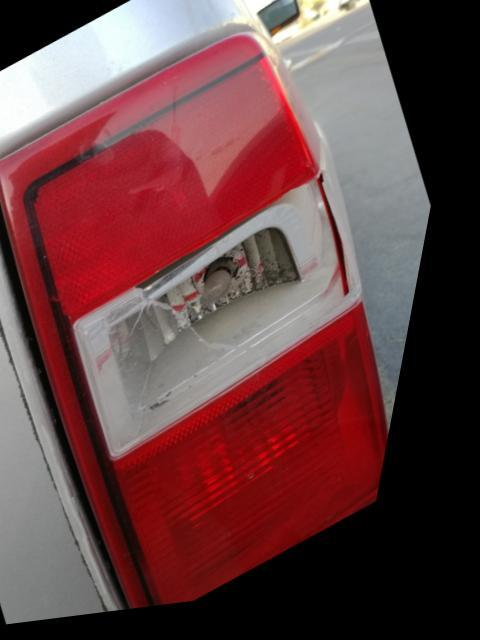lamp broken: (0, 38, 407, 616)
